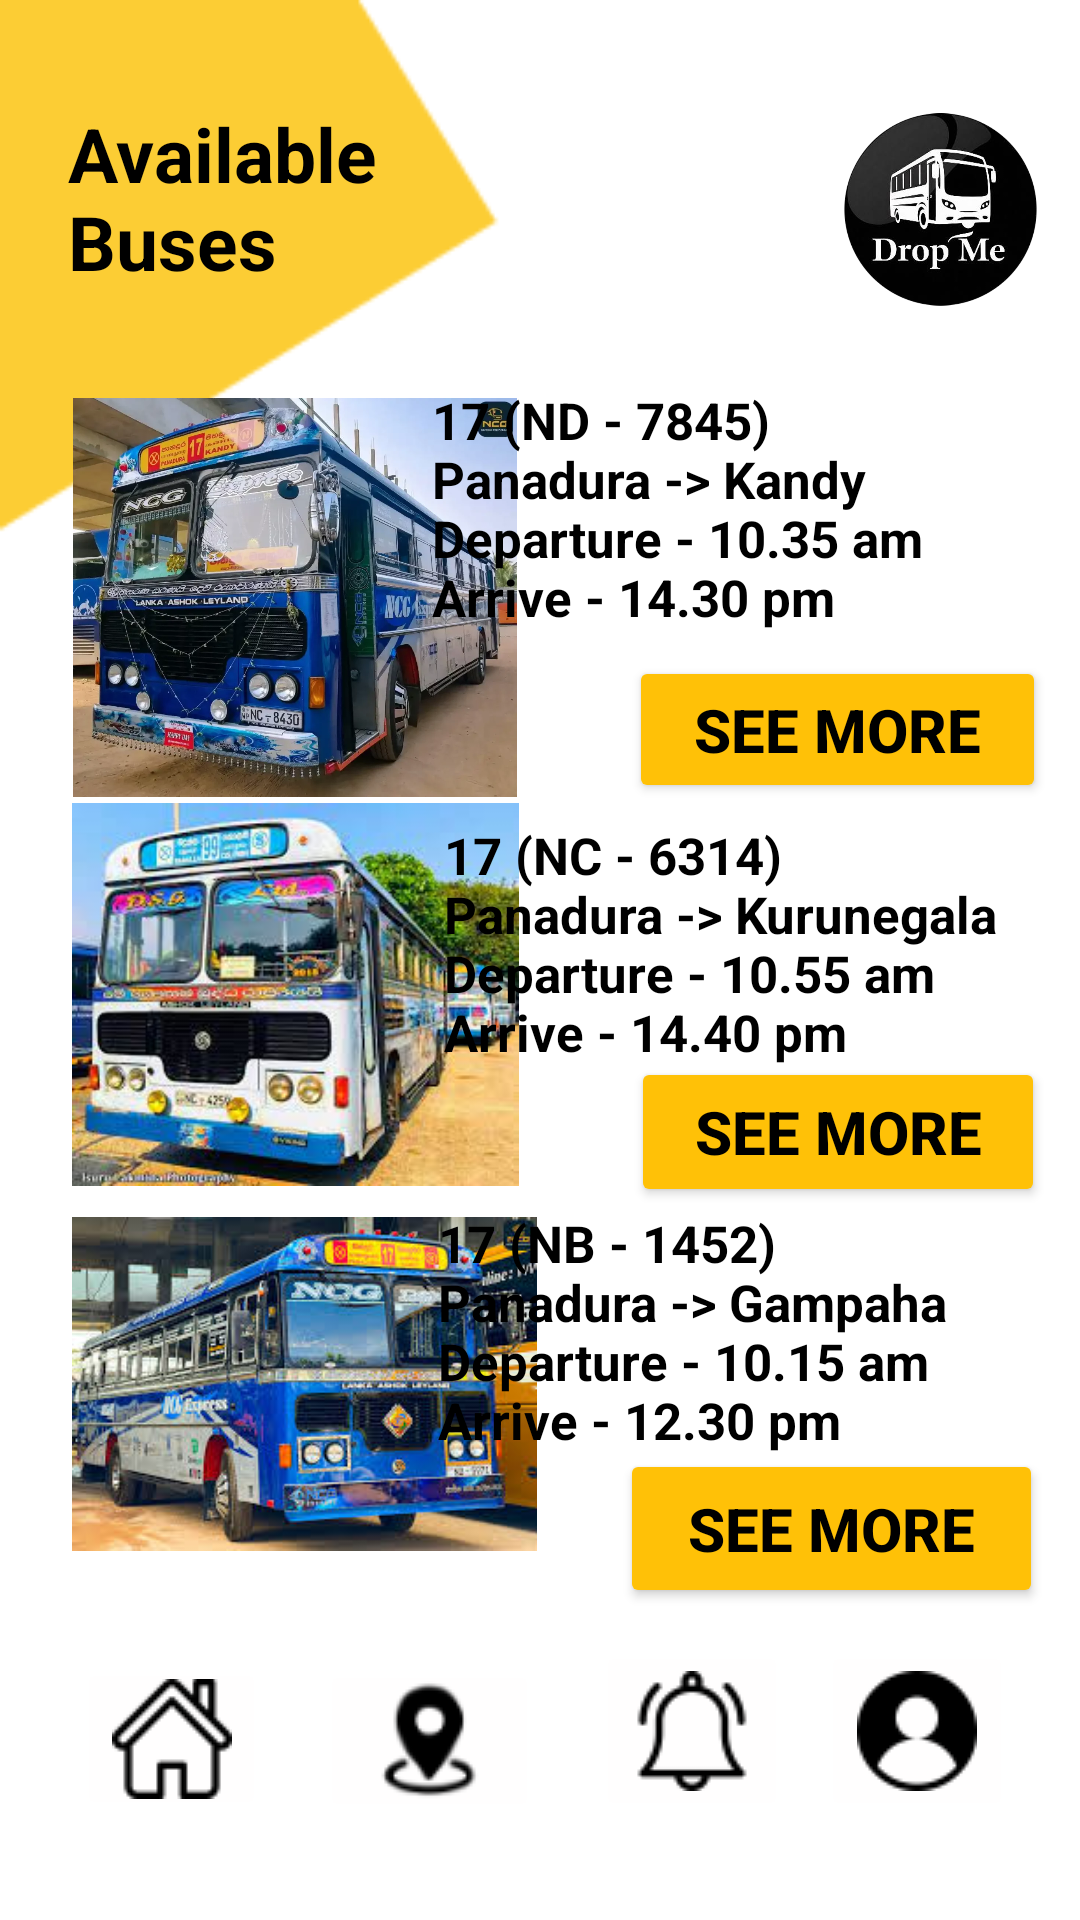

Screen size 1080px x 1920px. Icon name, then its center in pixels as point (x, y):
belb: point (692, 1731)
homeb: point (172, 1739)
userb: point (917, 1731)
